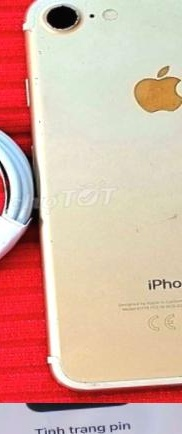scratch: (24, 40, 47, 134), (67, 0, 182, 17), (123, 203, 182, 229), (36, 4, 86, 34), (44, 222, 55, 251)
screen_defect: (26, 409, 92, 434)
